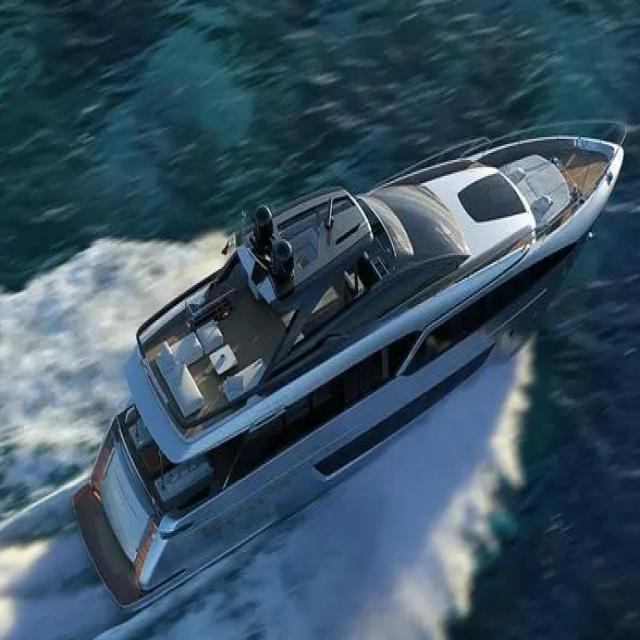houseboat: (78, 107, 628, 619)
